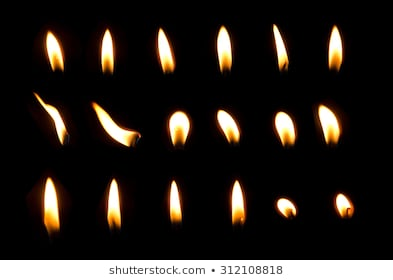Fire: (91, 99, 142, 150), (32, 92, 68, 145), (315, 101, 346, 147), (42, 27, 69, 75), (39, 176, 62, 232), (152, 26, 178, 74), (269, 22, 293, 71), (215, 107, 243, 147), (166, 105, 192, 148), (272, 110, 299, 148), (165, 179, 187, 225), (228, 178, 248, 228), (327, 22, 346, 72), (215, 25, 235, 72), (105, 177, 122, 231), (98, 27, 116, 72), (275, 192, 299, 218), (333, 193, 355, 220)
